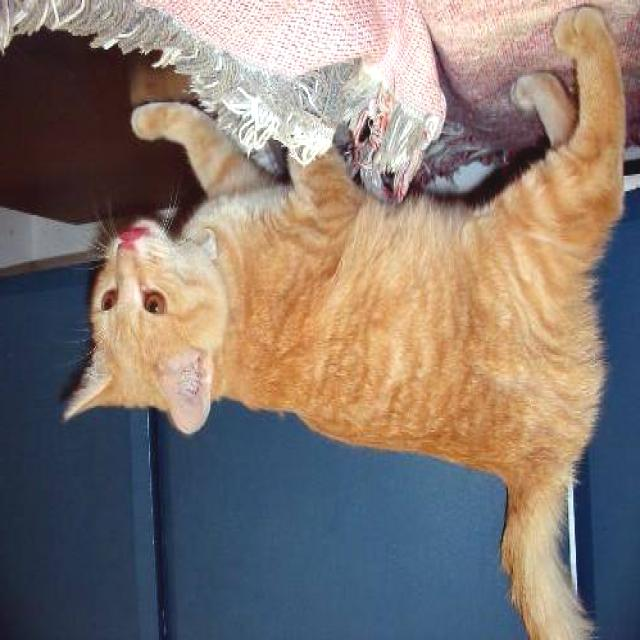Kucing: (47, 53, 640, 626)
